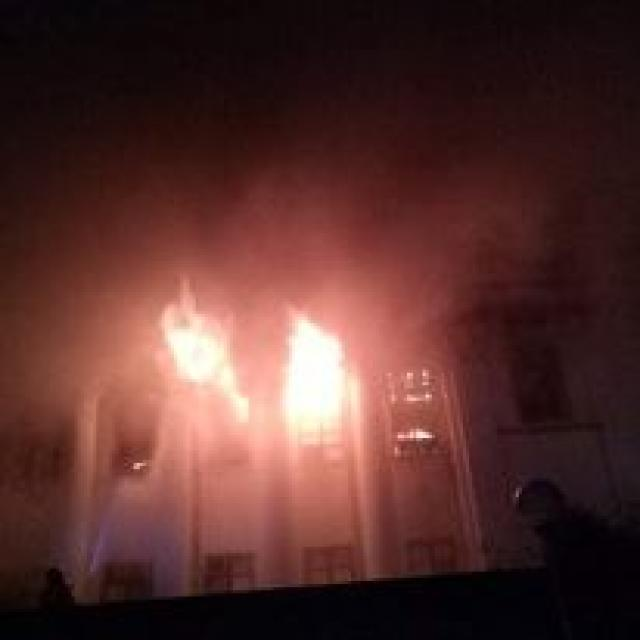Fire: (167, 292, 265, 424), (272, 299, 342, 410)
Smoke: (38, 130, 555, 348)
